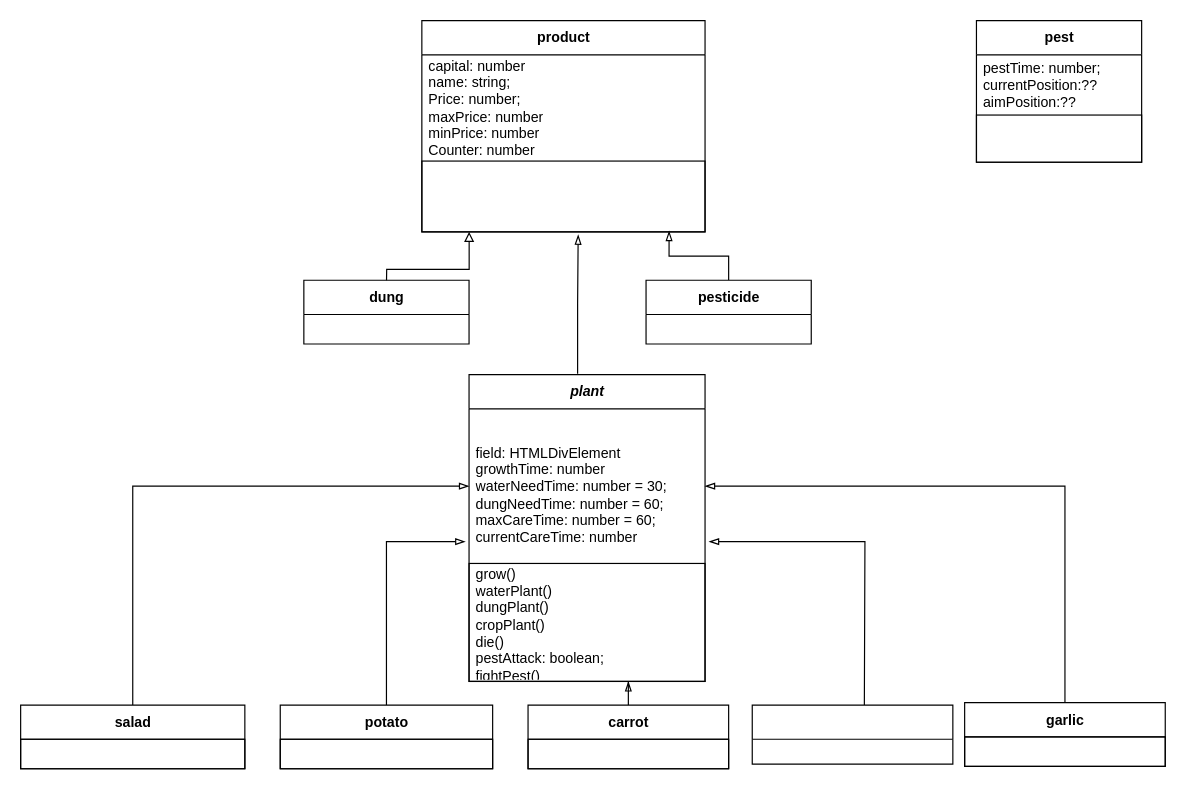
This 1186x789 diagram has some shape labels left out. Here are the shapes that lost their labels. From the top down, the centre of each, then its label:
At point 1058,138: "attackPlant(??)".
At point 563,196: "readFormData() changePrice() buyProduct()".
At point 852,734: "eggplant".
